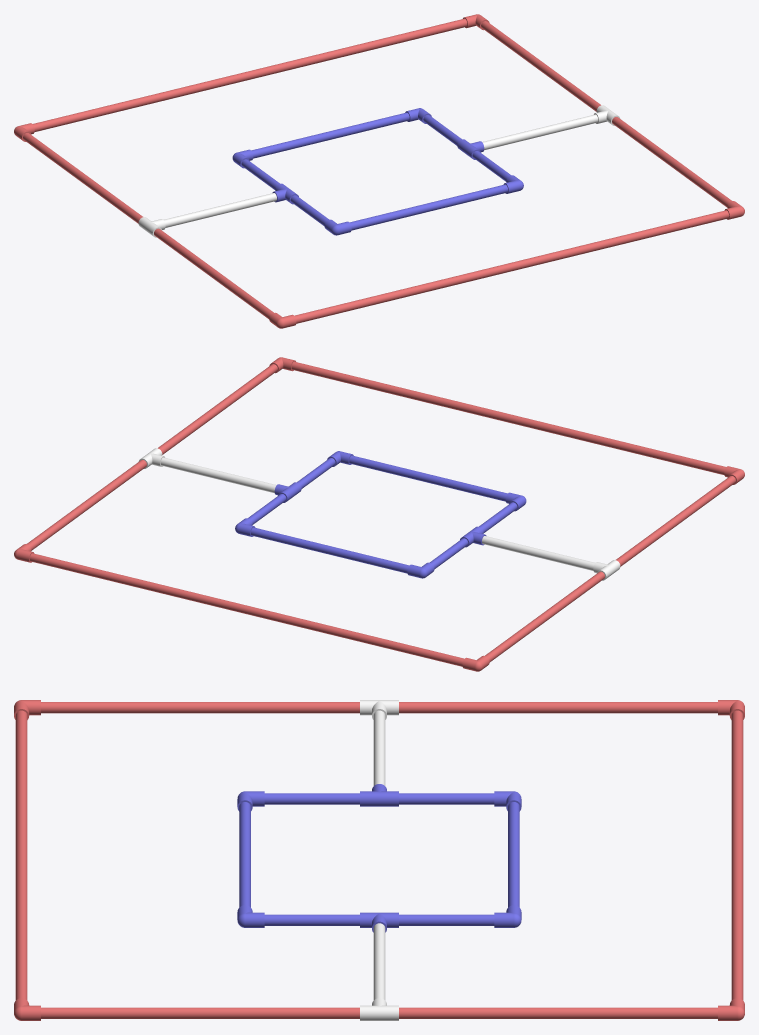
Rendered from transect_area.glb.
3 renders of one model, top to bottom at view 1: azimuth 30°, elevation 25°; view 2: azimuth 150°, elevation 25°; view 3: azimuth 270°, elevation 25°, orthographic. The views are drawn at different scales.
Visible parts, largest first — view 1: 1/2_in_PVC_Pipe (×10); view 2: 1/2_in_PVC_Pipe (×10); view 3: 1/2_in_PVC_Pipe (×14), 1/2_inch_PVC_T (×4).
Part boxes in pixels (bbox=[...]): 1/2_in_PVC_Pipe (×10): bbox=[23, 18, 731, 323]; 1/2_in_PVC_Pipe (×10): bbox=[27, 361, 735, 666]; 1/2_in_PVC_Pipe (×14): bbox=[15, 702, 743, 1018]; 1/2_inch_PVC_T (×4): bbox=[360, 700, 398, 1020].
Bounding box in the file's own units: 1.35 × 0.0279 × 1.34.
